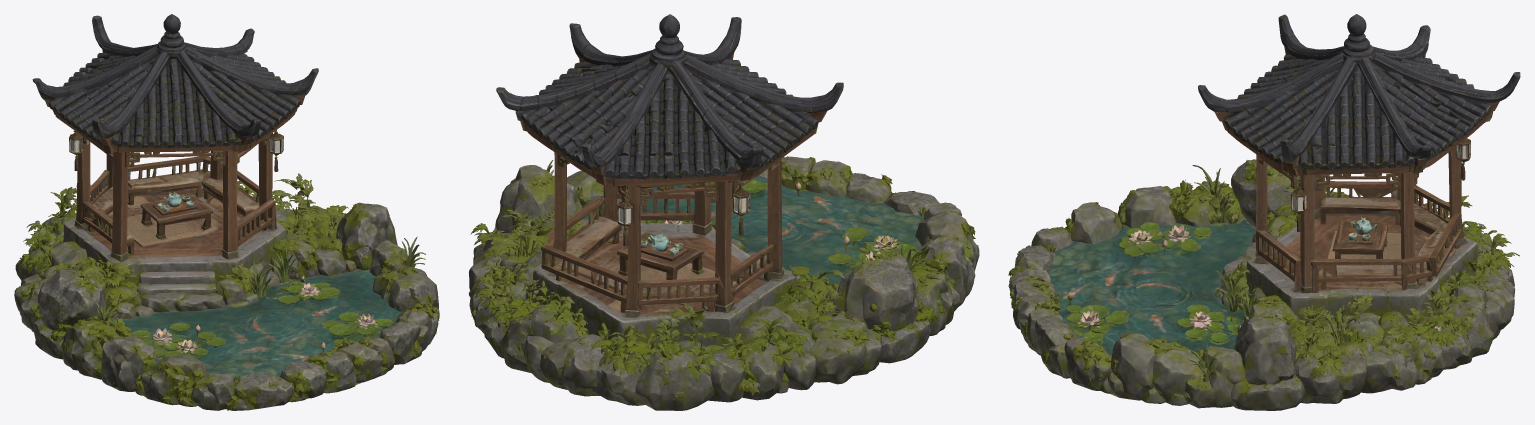
File: pavilion.glb
The picture shows the model from 3 angles, left to right: view 1: azimuth 30°, elevation 25°; view 2: azimuth 150°, elevation 25°; view 3: azimuth 270°, elevation 25°; orthographic projection. The views are drawn at different scales.
Visible parts, largest first — view 1: Mesh_0; view 2: Mesh_0; view 3: Mesh_0.
Boxes of the visible parts, bbox=[...] form: Mesh_0: bbox=[14, 14, 439, 410]; Mesh_0: bbox=[468, 14, 979, 410]; Mesh_0: bbox=[1008, 14, 1520, 410].
Size of the model in its own units: 1.69 by 1.22 by 1.89.
Materials: 1 (1 with a texture image).
